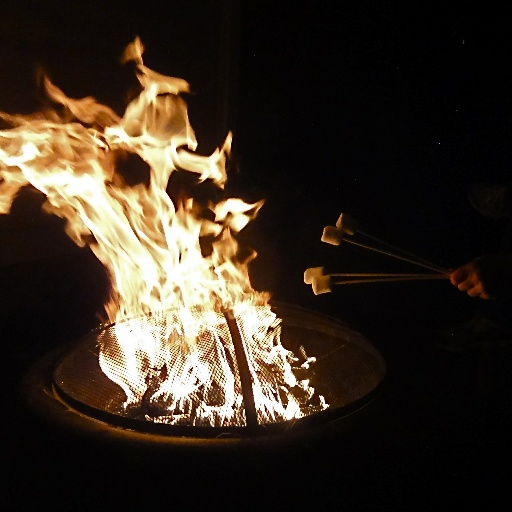hand: (448, 260, 499, 308)
